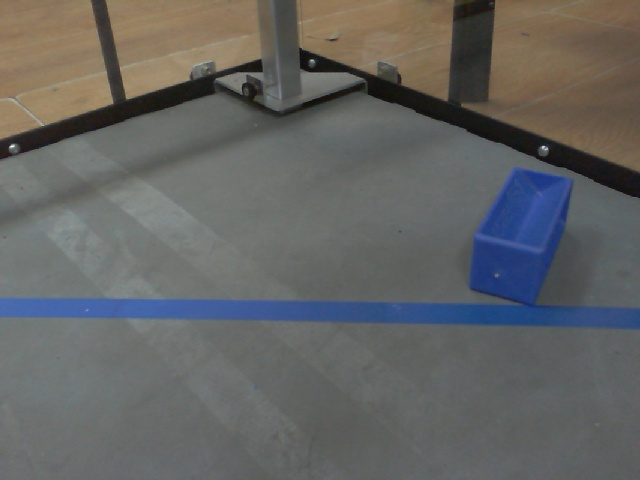BlueSample: (467, 163, 579, 310)
